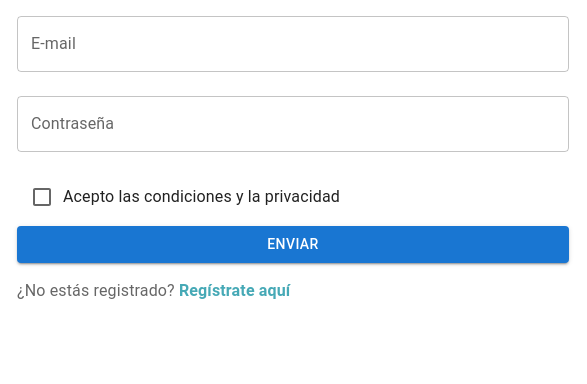
Test: LoginInputs › displays error messages when submitting empty form
Click the button "Enviar": (293, 244) [17,226,569,262]
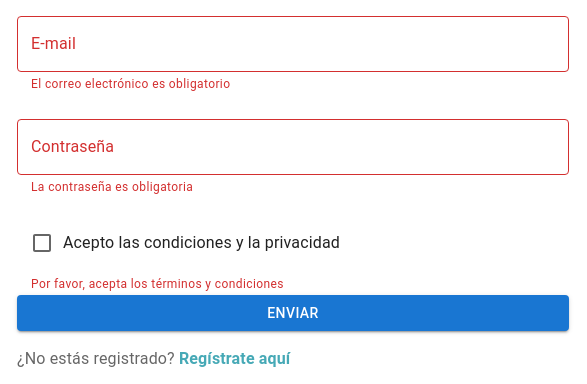
Expected: the text "El correo electrónico es obligatorio" is shown, [31,77,230,91]
Expected: the text "La contraseña es obligatoria" is shown, [31,180,193,194]
Expected: the text "Por favor, acepta los términos y condiciones" is shown, [31,277,284,291]
